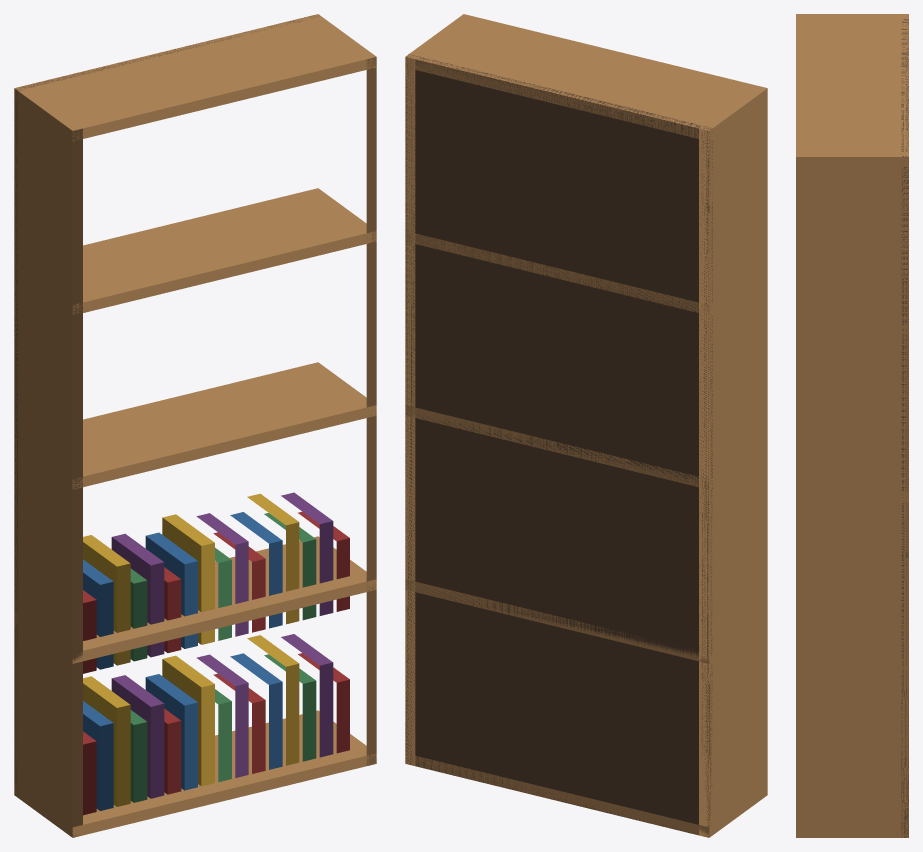
Rendered from bookshelf.glb.
The picture shows the model from 3 angles, left to right: view 1: azimuth 30°, elevation 25°; view 2: azimuth 150°, elevation 25°; view 3: azimuth 270°, elevation 25°; orthographic projection. The views are drawn at different scales.
Bounding box in the file's own units: 0.9 × 2 × 0.3.
